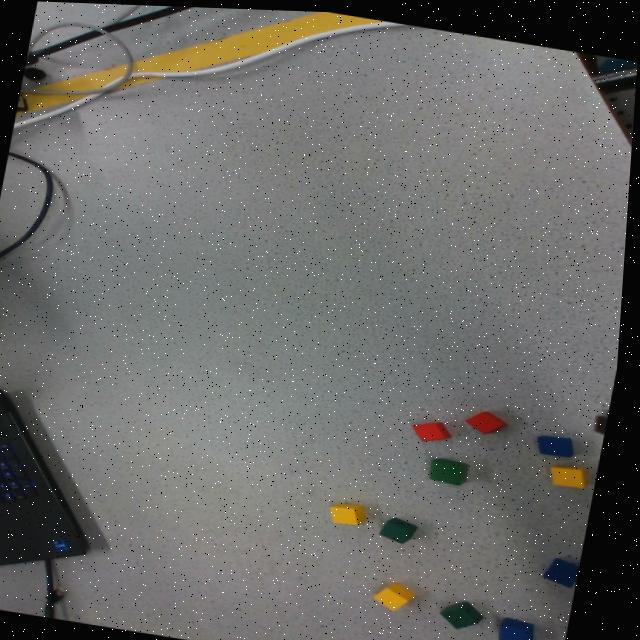blue_cube: (550, 550, 588, 583), (504, 611, 542, 640), (541, 429, 581, 452)
green_cube: (448, 595, 491, 625), (386, 511, 424, 542), (435, 453, 474, 480)
red_cube: (469, 398, 512, 438), (418, 415, 457, 438)
yellow_cube: (381, 571, 423, 612), (337, 500, 373, 520), (557, 461, 592, 481)
